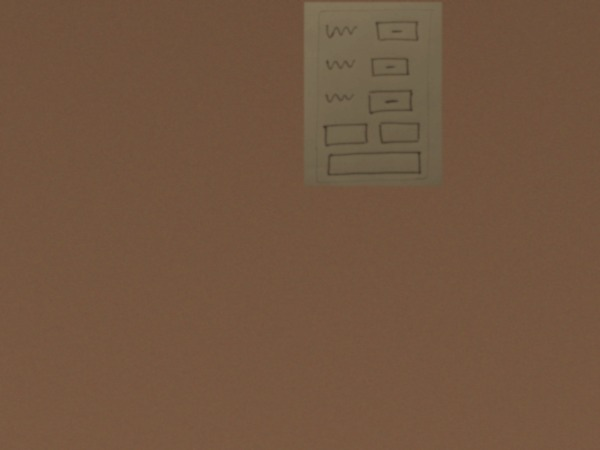button: (371, 17, 424, 45), (366, 89, 417, 115), (370, 56, 414, 79)
text: (323, 54, 358, 74), (325, 22, 360, 39), (324, 91, 357, 106)
text_input: (325, 151, 424, 177), (322, 123, 372, 149), (377, 120, 423, 147)
